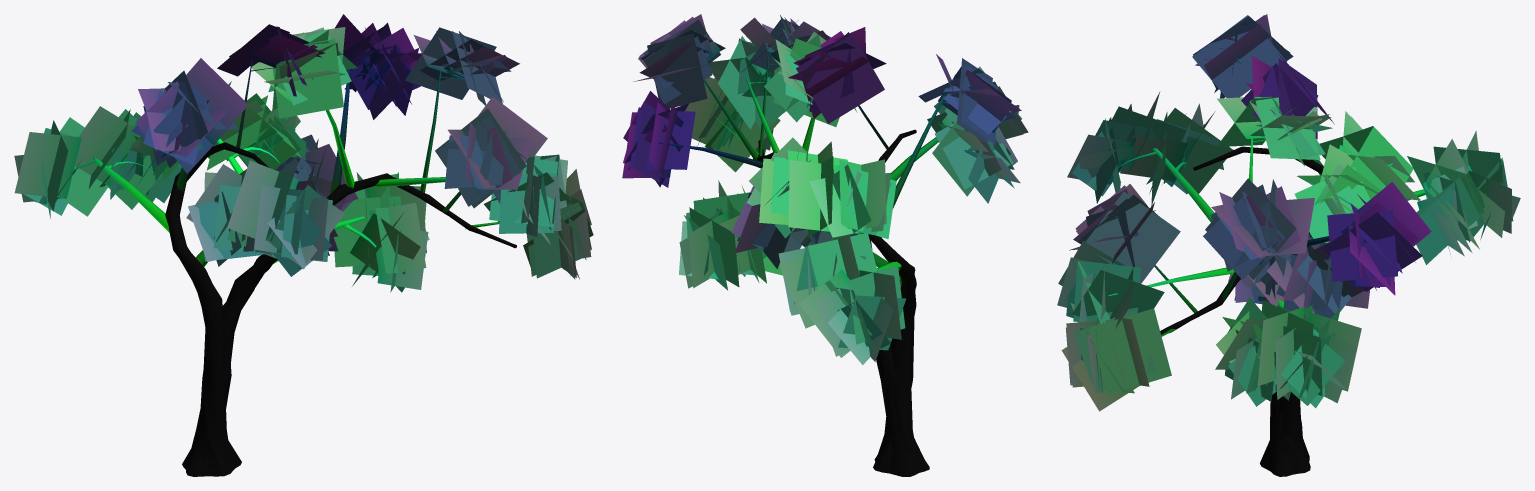
File: Tree_8.fbx
3 views of the same model, side by side, from view 1: azimuth 30°, elevation 25°; view 2: azimuth 150°, elevation 25°; view 3: azimuth 270°, elevation 25° (orthographic). The views are drawn at different scales.
Visible parts, largest first — view 1: Tree_1; view 2: Tree_1; view 3: Tree_1.
Boxes of the visible parts, bbox=[...] form: Tree_1: bbox=[14, 14, 593, 476]; Tree_1: bbox=[622, 14, 1028, 476]; Tree_1: bbox=[1057, 14, 1520, 476].
Size of the model in its own units: 971 by 989 by 952.
